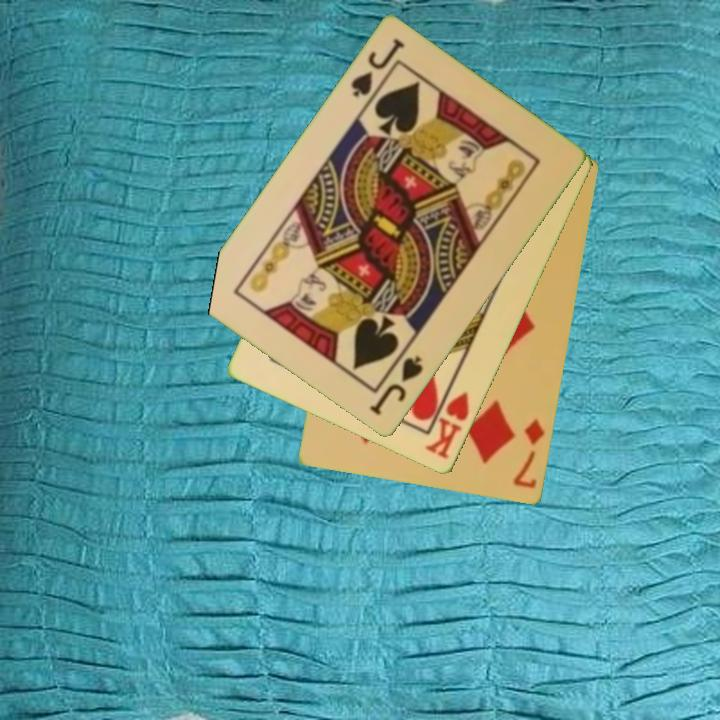7d: (509, 415, 548, 492)
Js: (347, 35, 408, 101), (366, 353, 426, 419)
Kh: (421, 377, 473, 463)
